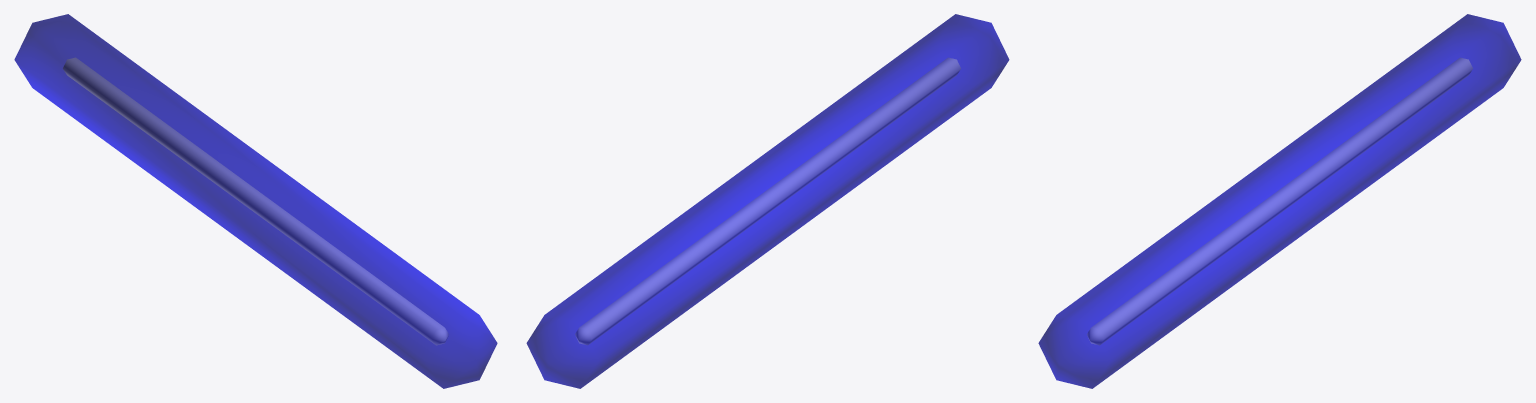
Rendered from blue_turret_laser_model.fbx.
3 views of the same model, side by side, from view 1: azimuth 30°, elevation 25°; view 2: azimuth 150°, elevation 25°; view 3: azimuth 330°, elevation 25° (orthographic).
Parts seen in each view (by area): view 1: glow, bolt; view 2: glow, bolt; view 3: glow, bolt.
Boxes of the visible parts, x1,y1,x2,y2 form: glow: (14, 14, 497, 388); bolt: (63, 57, 448, 345); glow: (526, 14, 1009, 388); bolt: (575, 57, 960, 345); glow: (1038, 14, 1521, 388); bolt: (1087, 57, 1472, 345).
Bounding box in the file's own units: 7.56 × 6.55 × 80.08.
